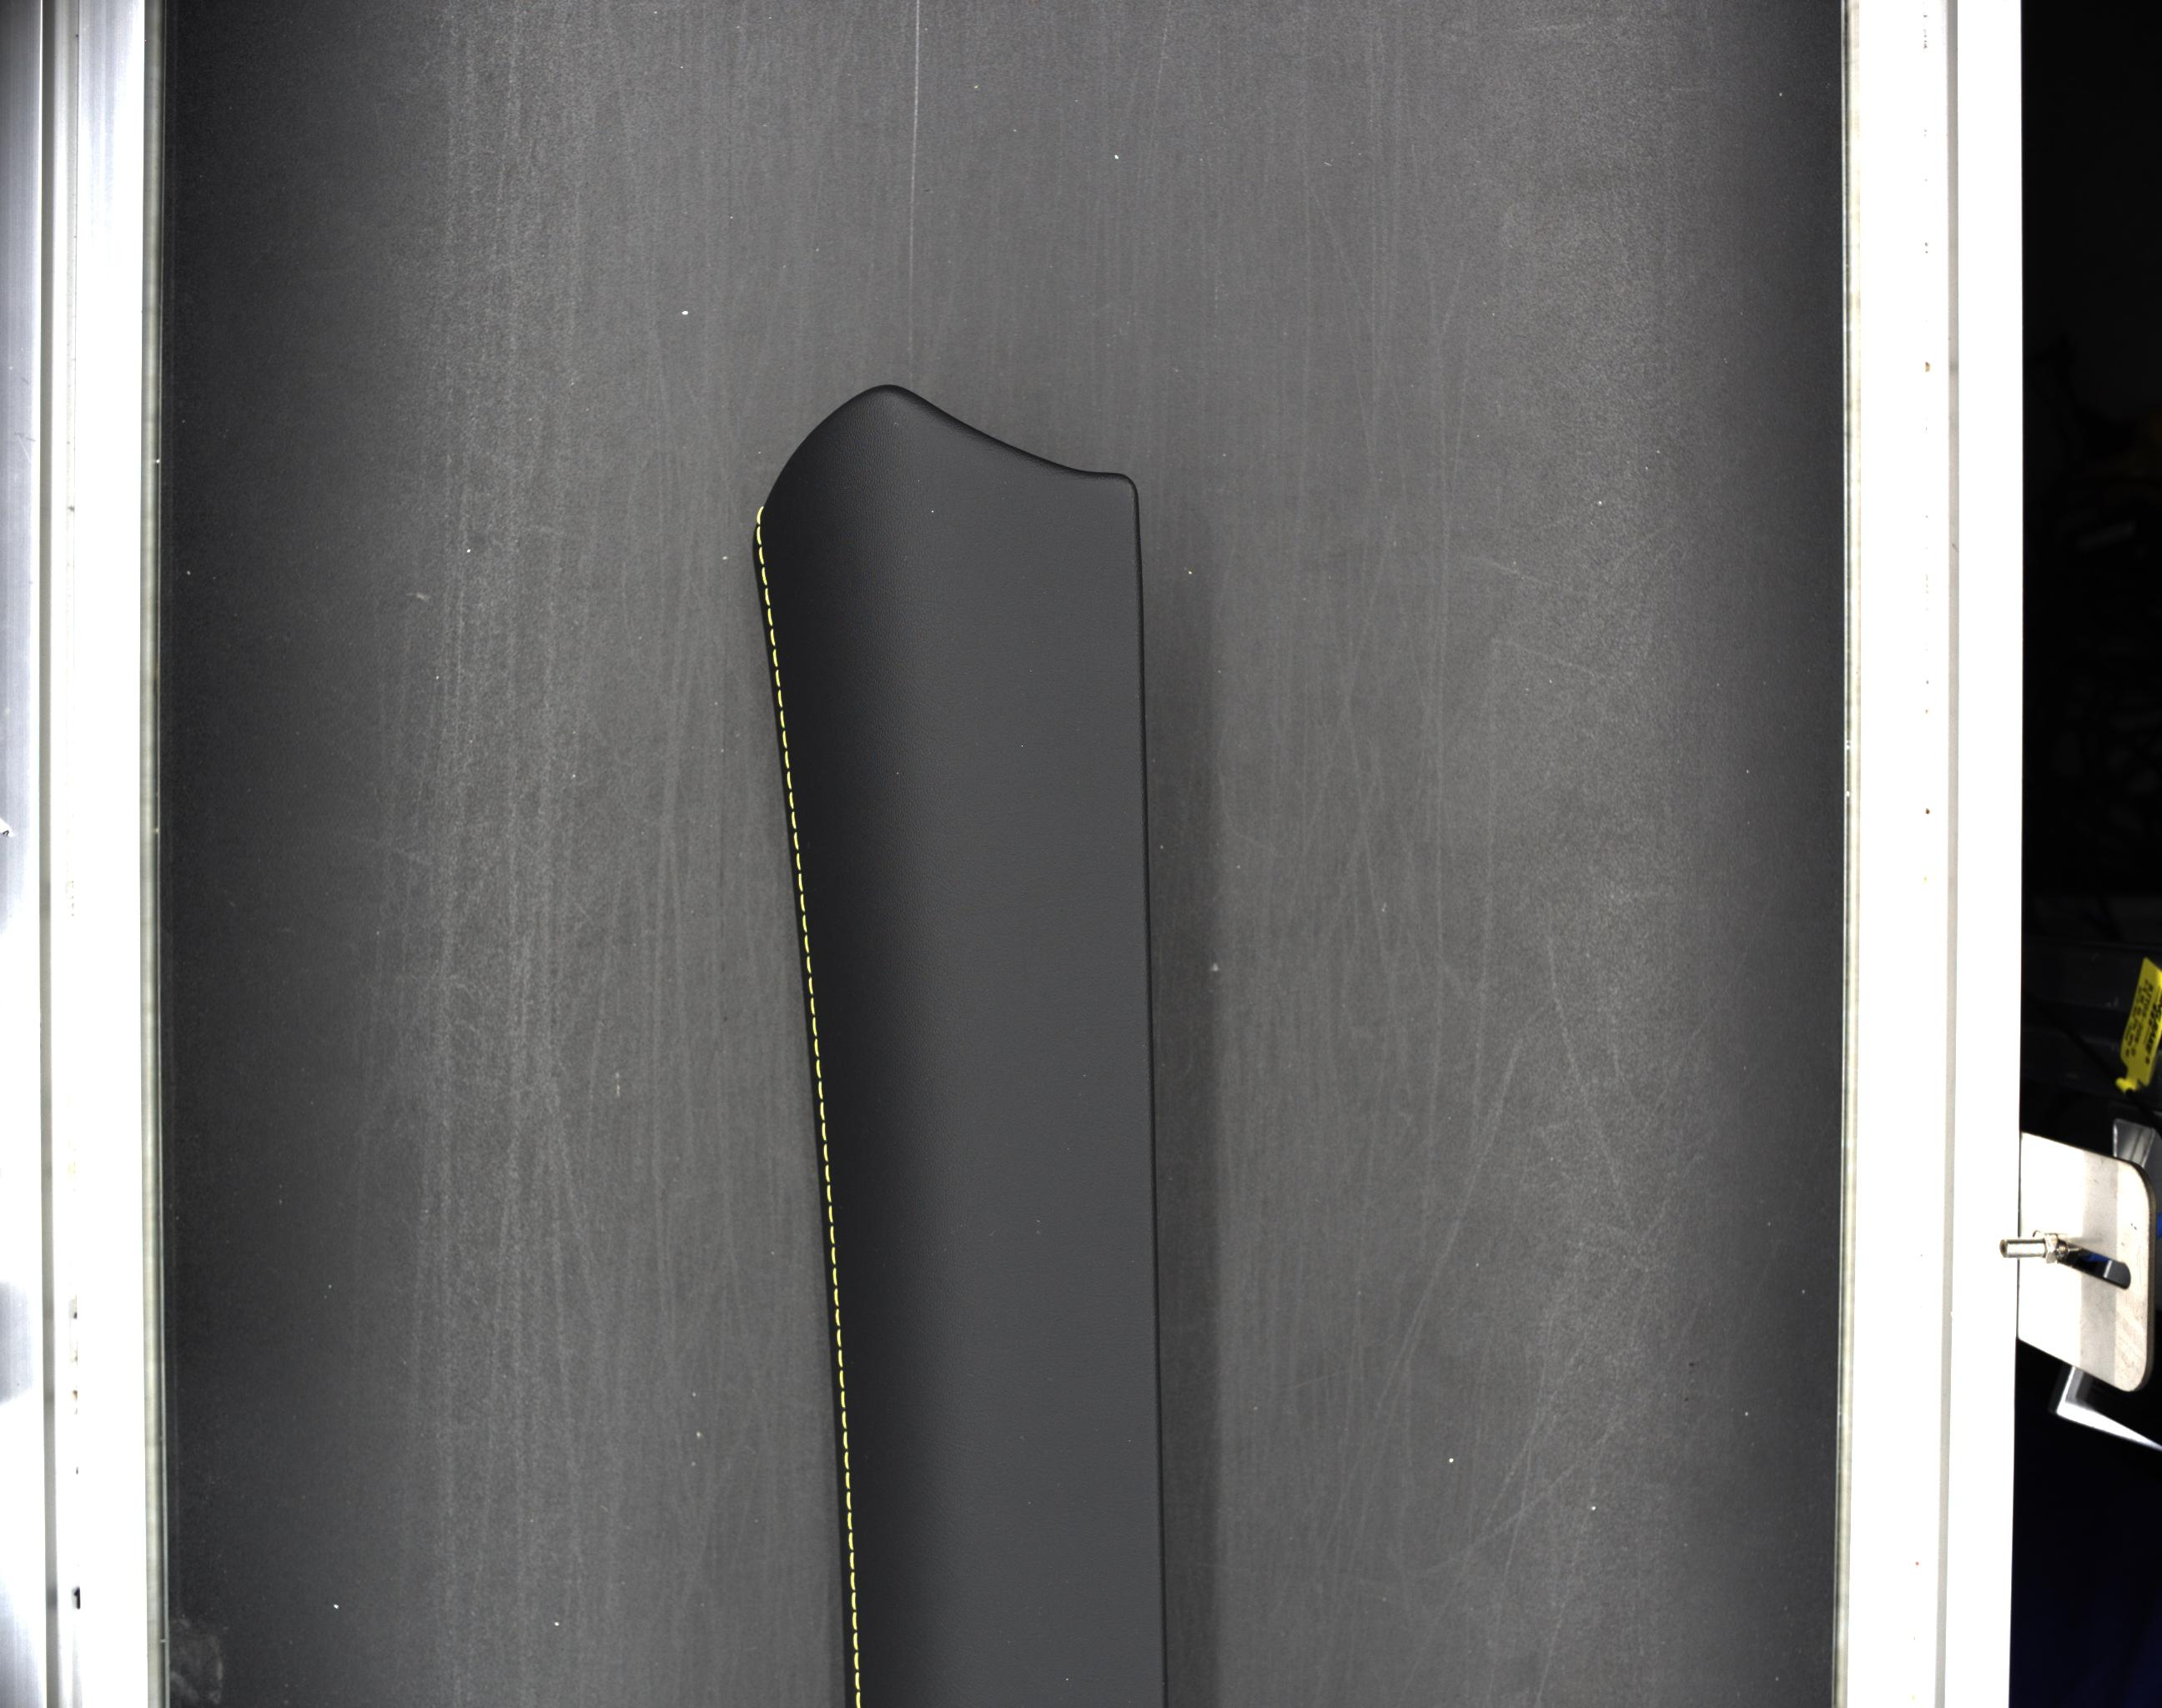vline: (795, 872, 805, 893), (781, 751, 791, 769), (821, 1143, 830, 1164), (846, 1554, 856, 1571), (848, 1573, 858, 1590), (851, 1631, 860, 1652), (765, 607, 774, 627), (807, 997, 816, 1016), (811, 1037, 820, 1057), (835, 1350, 844, 1369), (837, 1369, 846, 1389), (844, 1490, 853, 1510), (756, 548, 765, 565), (770, 649, 779, 667), (802, 936, 811, 953), (813, 1059, 821, 1076), (818, 1101, 827, 1118), (820, 1122, 828, 1139), (832, 1308, 841, 1325), (844, 1511, 853, 1529), (811, 1016, 818, 1037), (784, 772, 793, 788), (827, 1206, 835, 1222), (853, 1673, 862, 1689), (779, 709, 786, 728), (781, 730, 788, 750), (791, 830, 798, 850), (816, 1080, 823, 1099), (839, 1411, 846, 1431), (842, 1450, 849, 1469), (755, 527, 762, 544), (769, 628, 776, 646), (774, 669, 781, 686), (790, 811, 797, 829), (798, 895, 805, 913), (828, 1227, 835, 1245), (828, 1246, 835, 1264), (835, 1329, 842, 1346), (841, 1431, 848, 1448), (844, 1471, 851, 1489), (846, 1532, 853, 1550), (849, 1592, 856, 1610), (851, 1611, 858, 1629), (760, 569, 767, 585), (763, 588, 770, 604), (776, 690, 783, 706), (788, 792, 795, 807), (793, 853, 800, 869), (800, 916, 807, 932), (825, 1185, 832, 1201), (832, 1290, 839, 1306), (853, 1654, 860, 1669), (855, 1690, 862, 1706), (807, 976, 813, 995), (841, 1390, 846, 1410), (823, 1166, 830, 1180), (805, 955, 811, 972), (832, 1267, 837, 1285)
